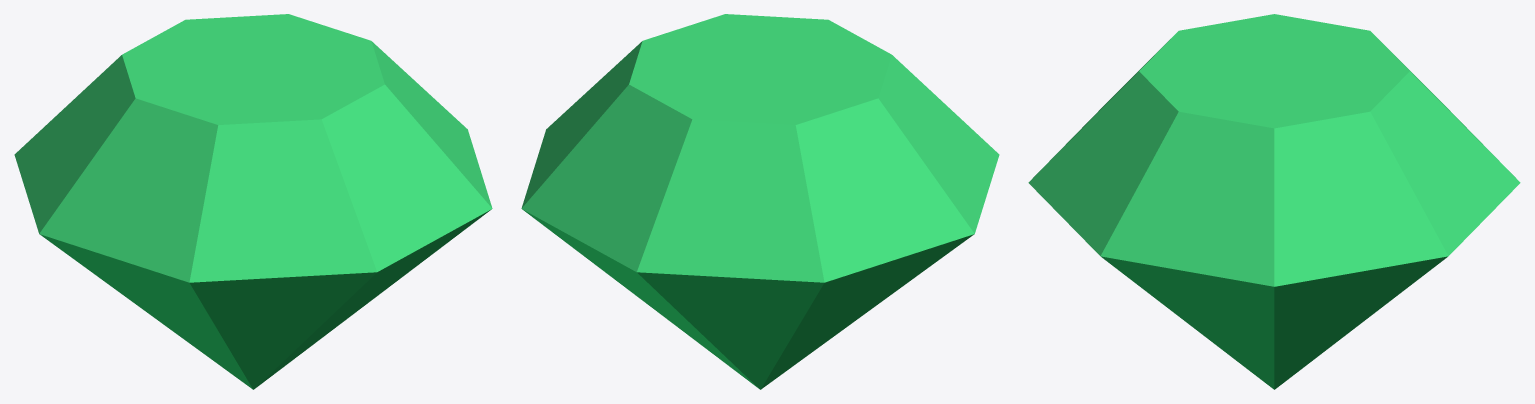
The model's file is GreenGem.fbx.
3 renders of one model, left to right at view 1: azimuth 30°, elevation 25°; view 2: azimuth 150°, elevation 25°; view 3: azimuth 270°, elevation 25°, orthographic.
Visible parts, largest first — view 1: GreenGem; view 2: GreenGem; view 3: GreenGem.
Boxes of the visible parts, x1,y1,x2,y2 form: GreenGem: [14, 14, 492, 389]; GreenGem: [521, 14, 999, 389]; GreenGem: [1028, 14, 1520, 389].
Size of the model in its own units: 1.4 by 1 by 1.4.
1 material, 1 textured.
